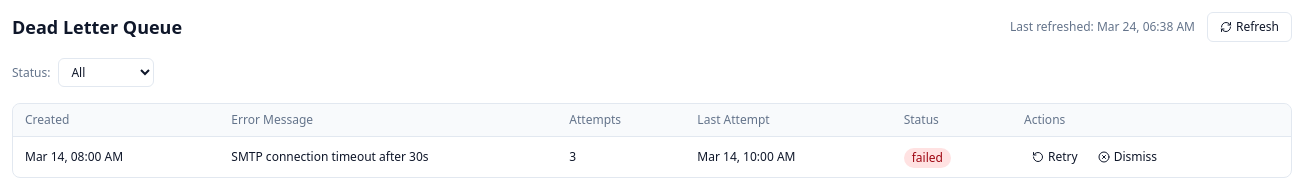
it: DLQMonitor › shows empty state when filter matches nothing
Select "Resolved" in the dropdown with test id "dlq-status-filter" at [106, 72], box left=58, top=58, right=154, bottom=87
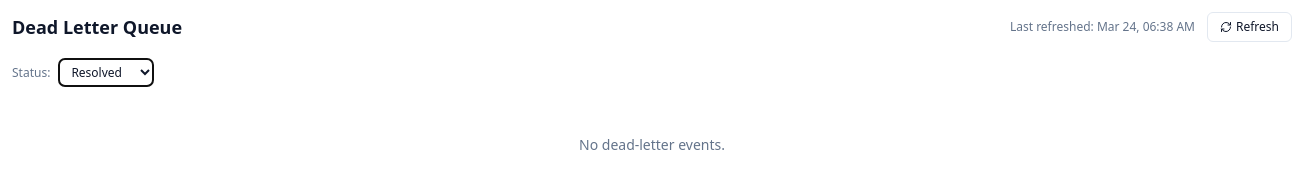
Expected: the text "No dead-letter events." is shown, left=579, top=135, right=725, bottom=154
